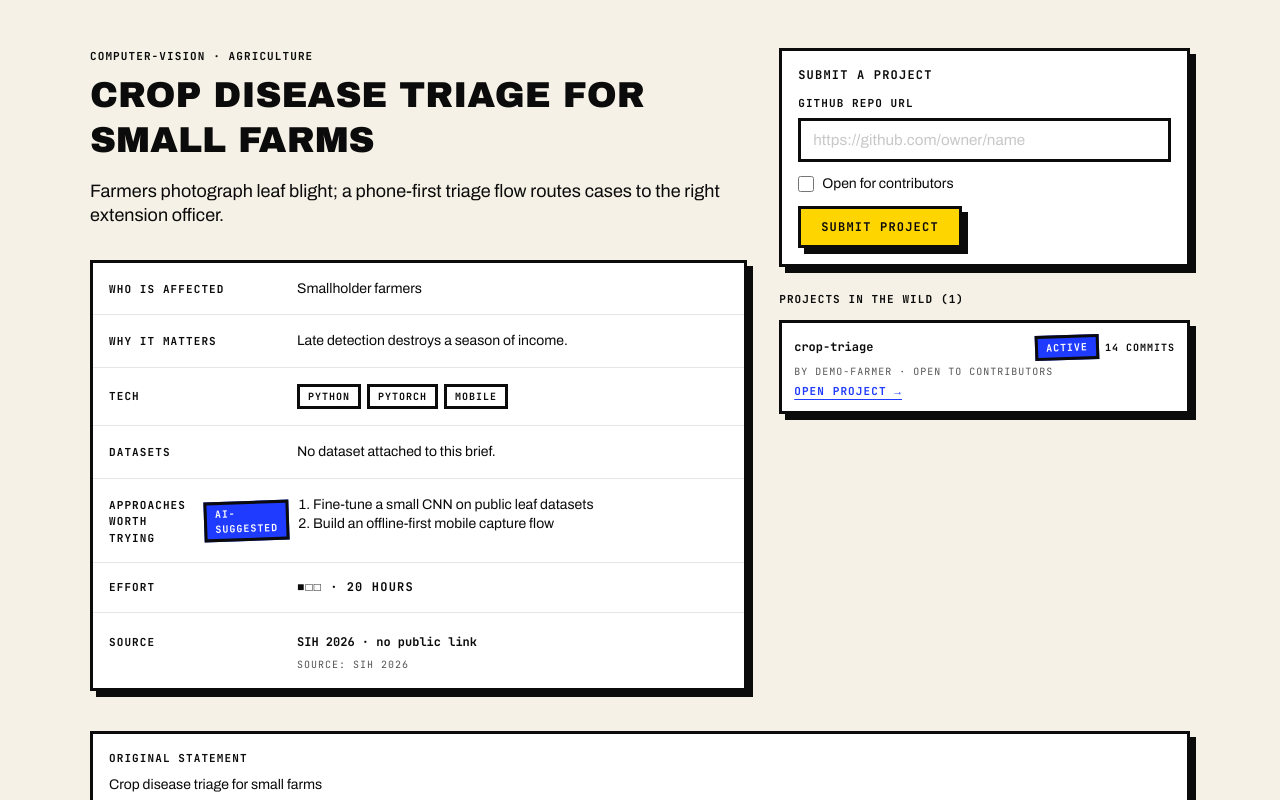
ProblemDetailPage › submits a valid repo URL and shows the submitted panel
The width and height of the screenshot is (1280, 800).
Expected: the heading "Submit a project" is shown, [798,67,933,83]
Type "https://github.com/tester/new-thing/" into the field labelled "GitHub repo URL" at (985, 140), box [798,118,1171,162]
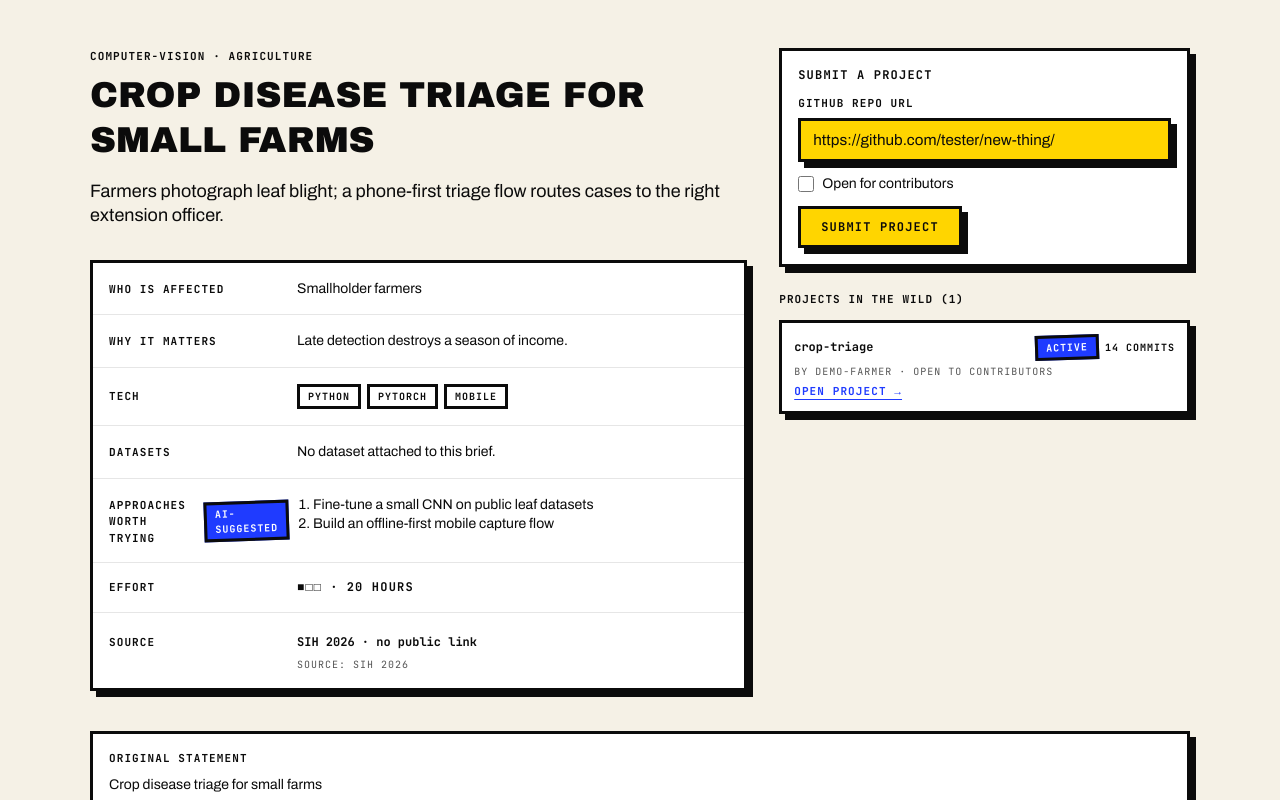
Click the checkbox labelled "Open for contributors" at (806, 184), box [798,176,814,192]
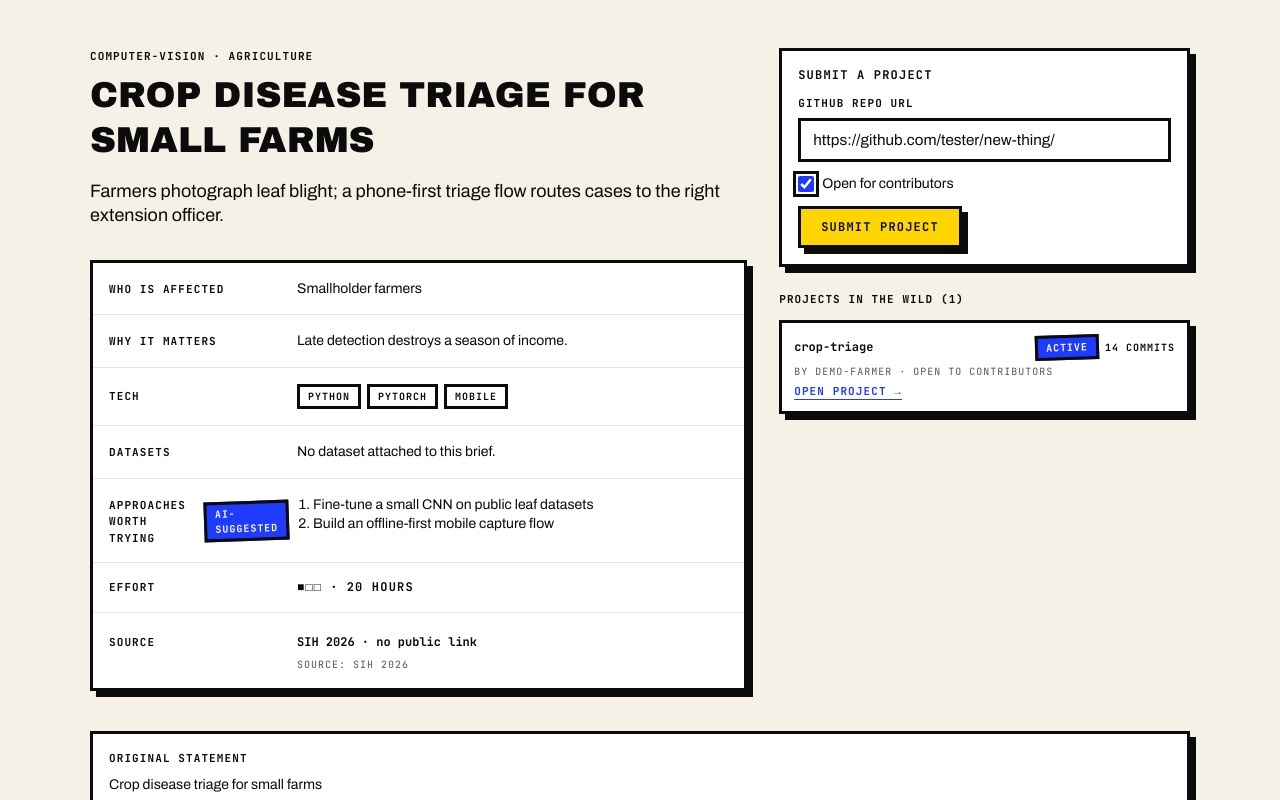
Click the button "Submit project" at (880, 227), box [798,206,962,248]
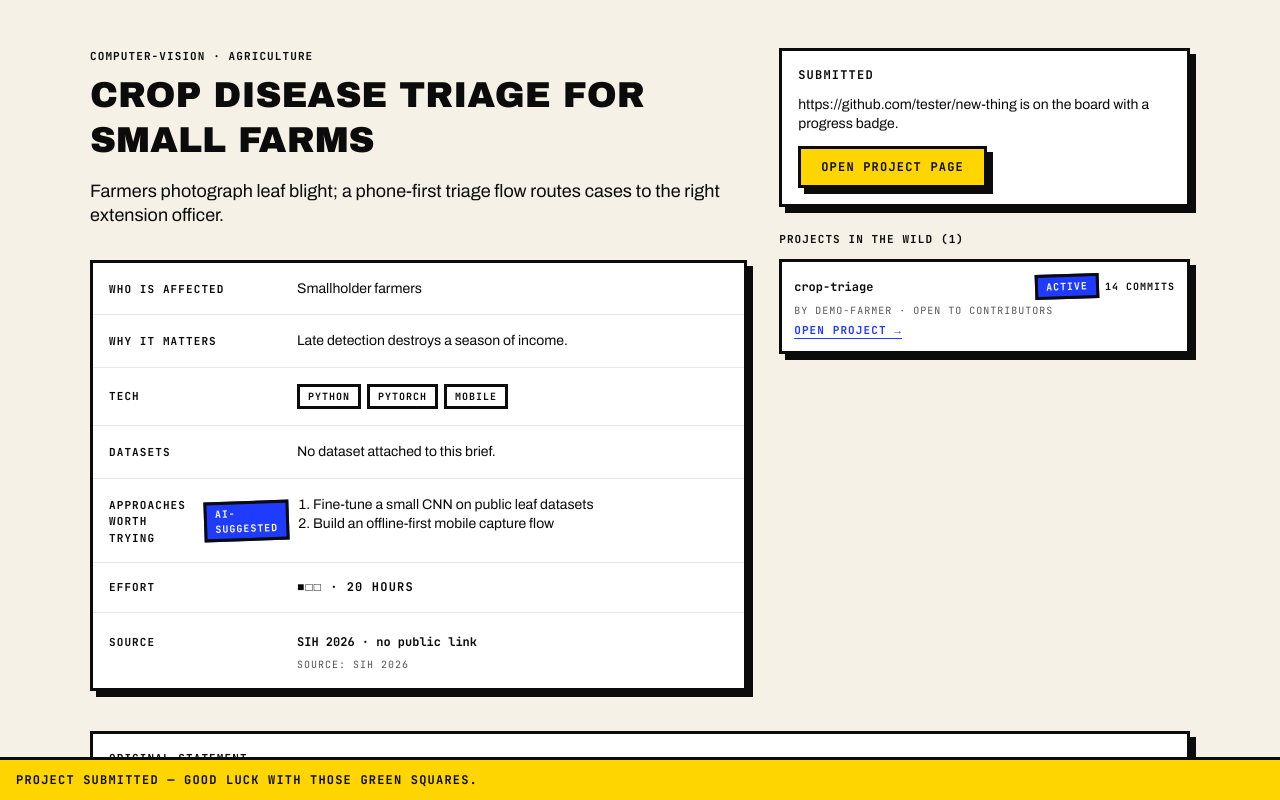
Expected: the text "is on the board" is shown, [798,97,1149,131]
Expected: the text "github.com/tester/new-thing" shows "https://github.com/tester/new-thing", [798,97,1017,112]
